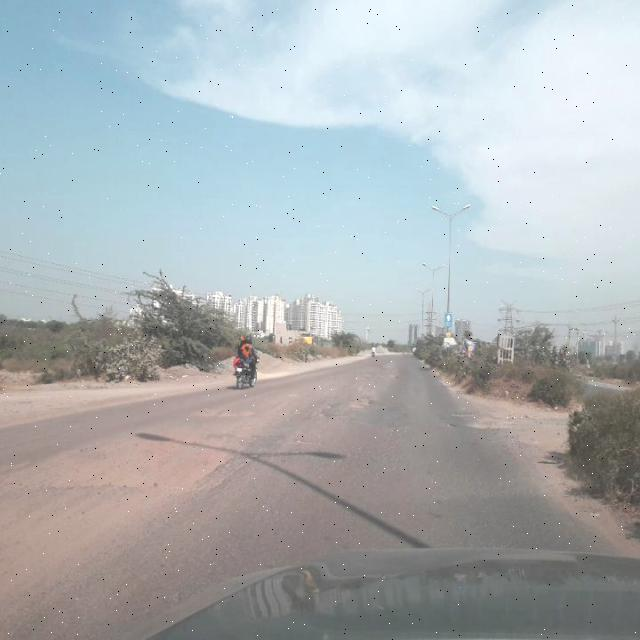D00: (201, 439, 271, 500)
D20: (298, 428, 436, 478)
D40: (8, 416, 268, 500), (442, 410, 508, 433), (342, 392, 382, 416), (294, 394, 332, 418)
